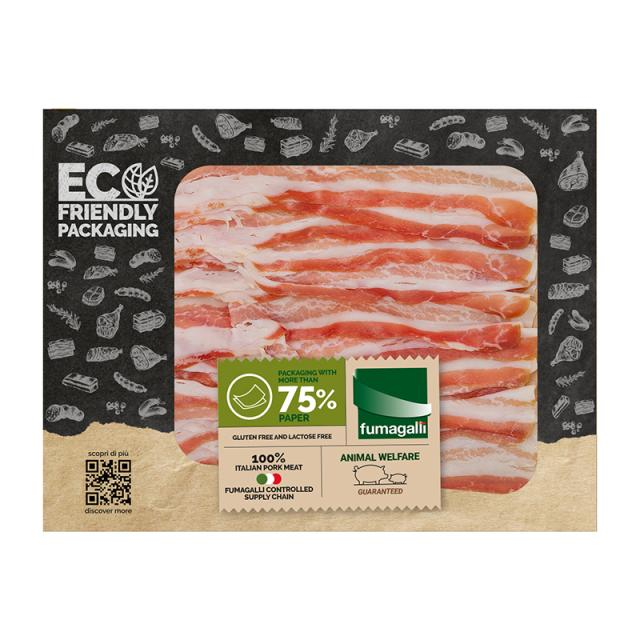pork: (55, 87, 615, 523)
